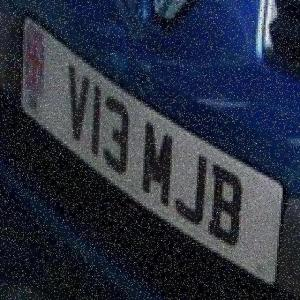Plate: (21, 18, 288, 286)
